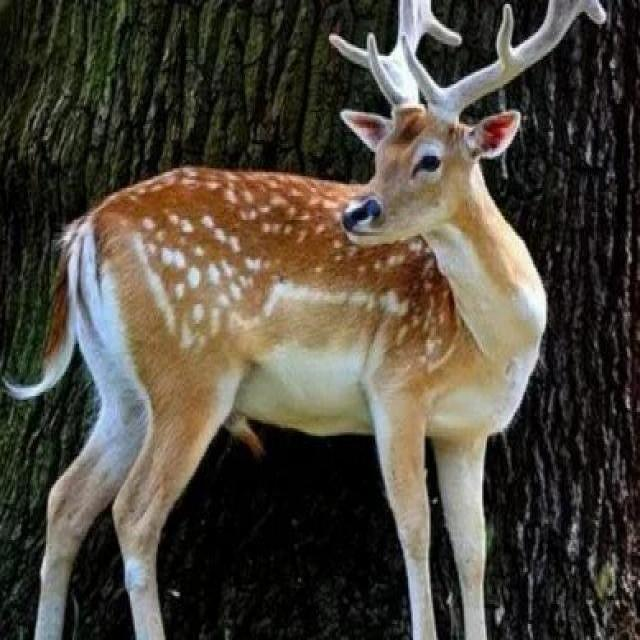deer: (62, 71, 520, 538)
